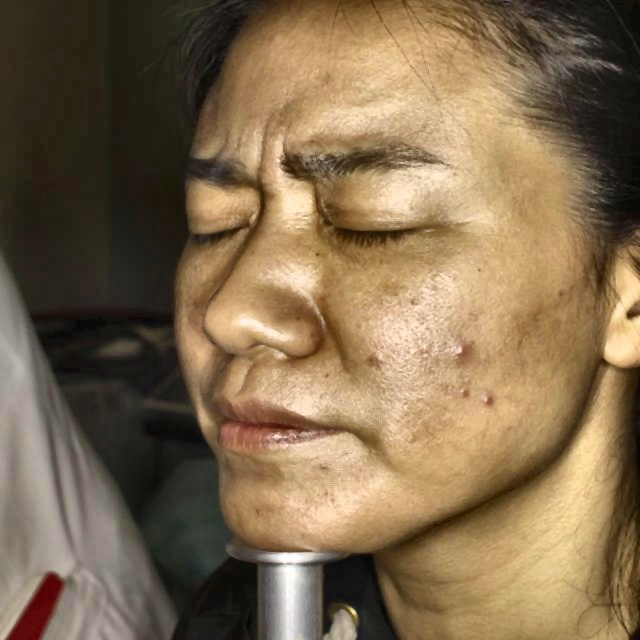comedone: (446, 339, 474, 365), (479, 387, 501, 415)
